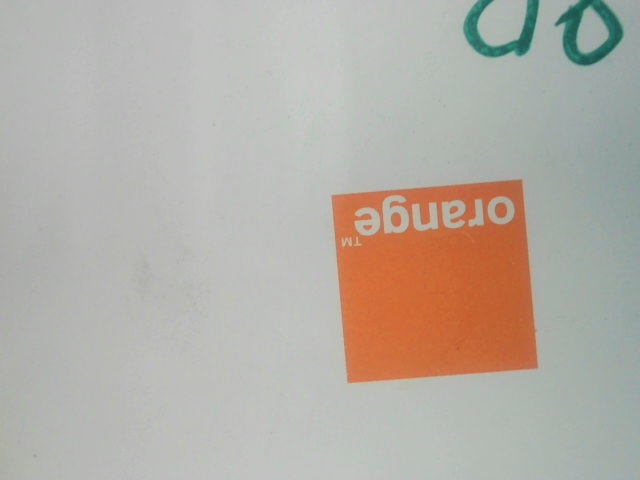AR_Orange: (290, 174, 562, 393)
